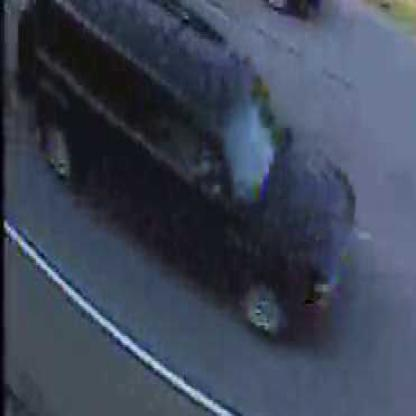car: (12, 7, 360, 341)
